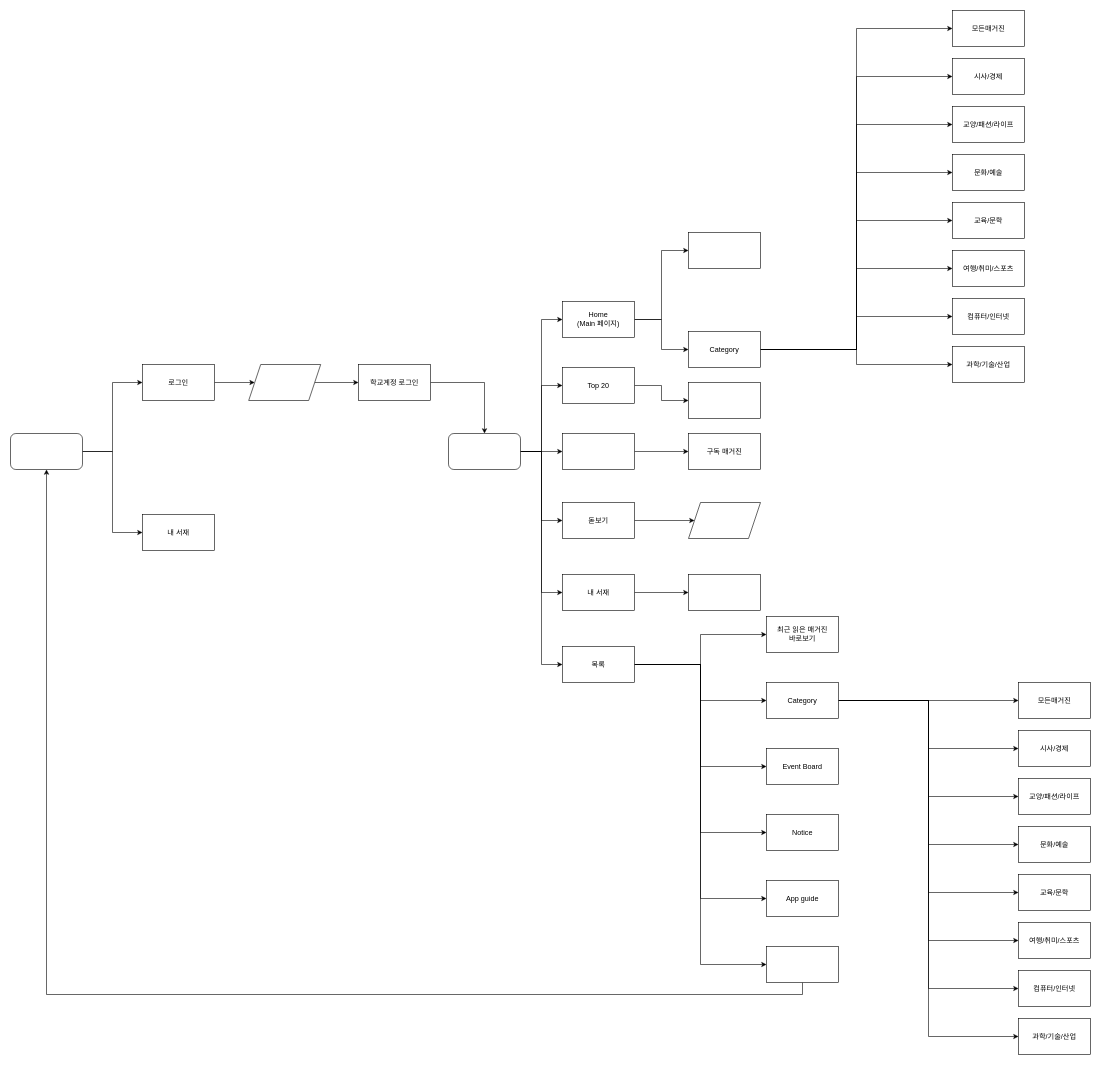
This 1101x1065 diagram has some shape labels left out. The shapes that lost their labels are listed below. From the top down, each one's centre as x and y in pixels, then its label:
At point (724, 250): "Editor Choice".
At point (284, 382): "도서관명 입력".
At point (724, 400): "성공회대학교 Tops".
At point (46, 451): "Main".
At point (484, 451): "Main 페이지".
At point (598, 451): "My".
At point (724, 520): "매거진 or 기사 제목 입력".
At point (724, 592): "다운로드 매거진".
At point (802, 964): "로그아웃".
